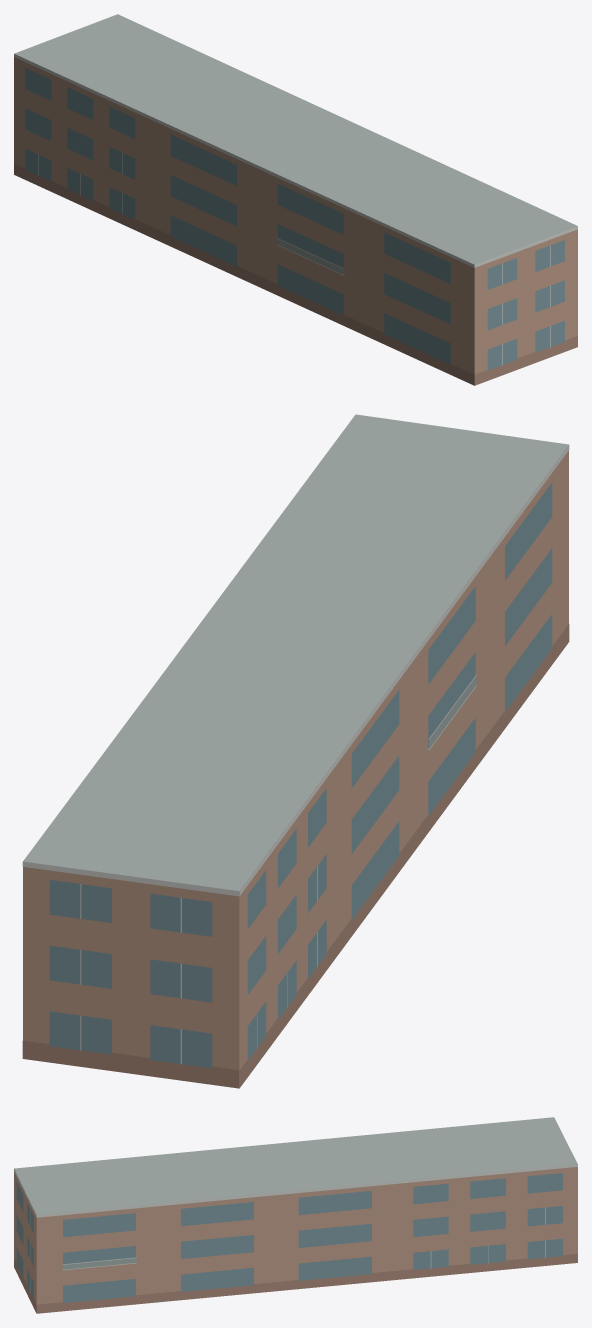
File: survey-upis-32624354.glb
3 views of the same model, one above another, from view 1: azimuth 30°, elevation 25°; view 2: azimuth 150°, elevation 25°; view 3: azimuth 270°, elevation 25° (orthographic). The views are drawn at different scales.
Visible parts, largest first — view 1: survey-upis-32624354.tmp; view 2: survey-upis-32624354.tmp; view 3: survey-upis-32624354.tmp.
Part boxes in pixels (x1,y1,x2,y2): survey-upis-32624354.tmp: [14, 14, 577, 385]; survey-upis-32624354.tmp: [22, 414, 569, 1088]; survey-upis-32624354.tmp: [14, 1117, 577, 1313].
Size of the model in its own units: 19.49 by 9.15 by 47.4.
